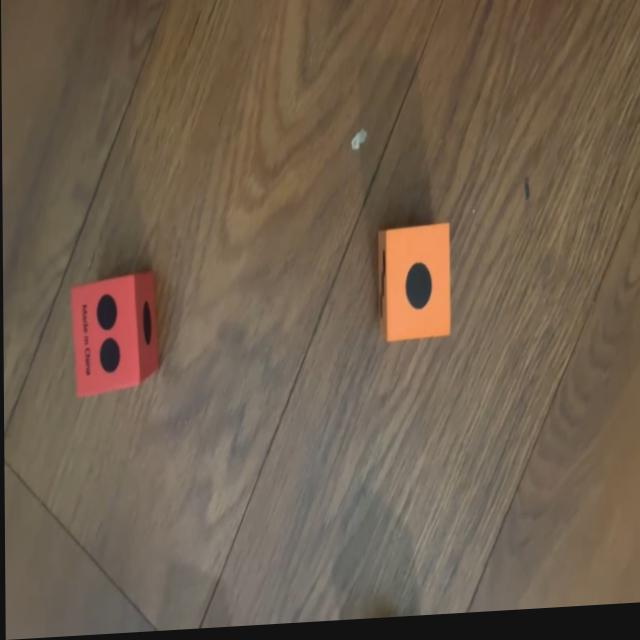red_block: (68, 270, 158, 398)
